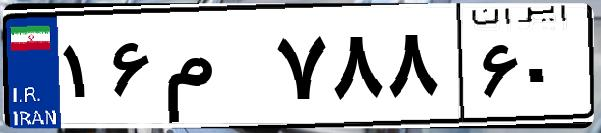0: (525, 38, 570, 115)
1: (57, 26, 110, 100)
6: (475, 38, 525, 113), (110, 28, 158, 98)
7: (270, 28, 330, 110)
8: (385, 28, 445, 110), (330, 28, 385, 110)
م: (158, 20, 270, 120)
